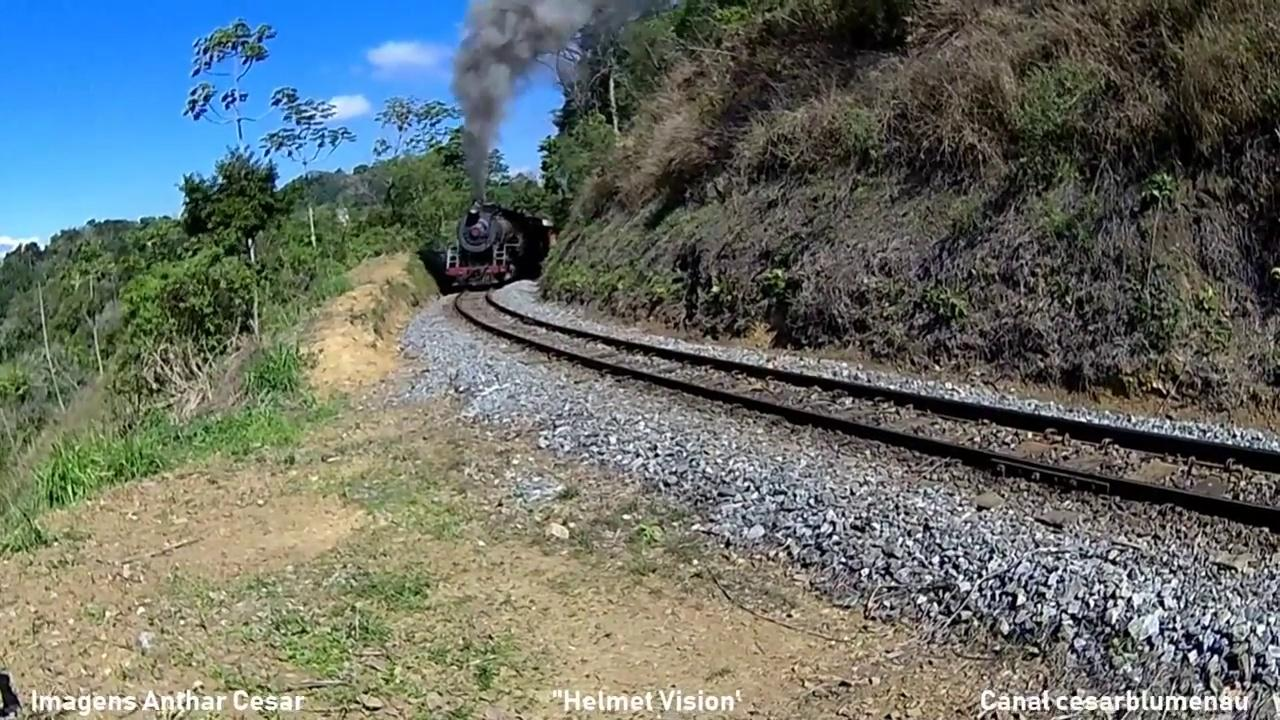smoke: (472, 10, 508, 144), (522, 0, 572, 48)
